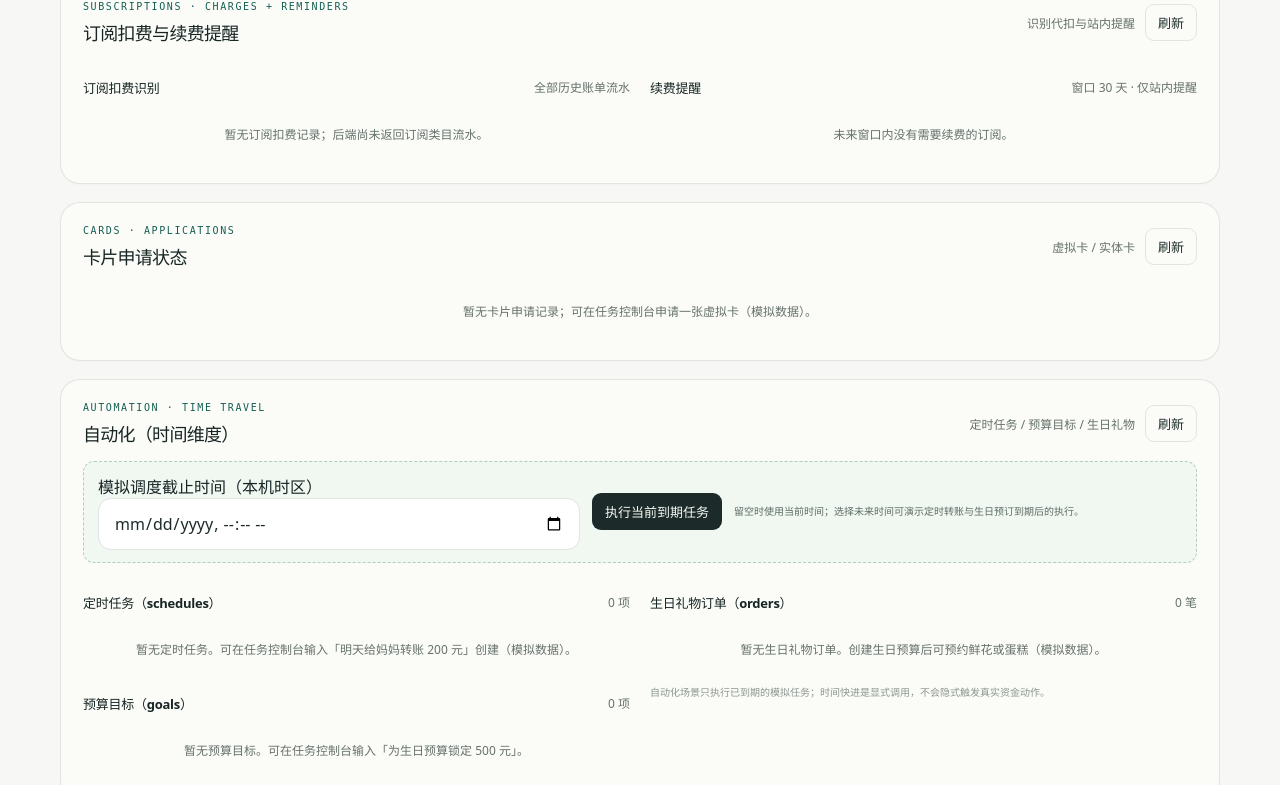
Test: business page interactions › surfaces pending re-authentication from run-due instead of claiming completion
The width and height of the screenshot is (1280, 785).
(page scrolled)
What coordinates should you click on to do the following:
click the button "执行当前到期任务"
I would click on:
 (657, 512)
Its box is [592,493,722,530].
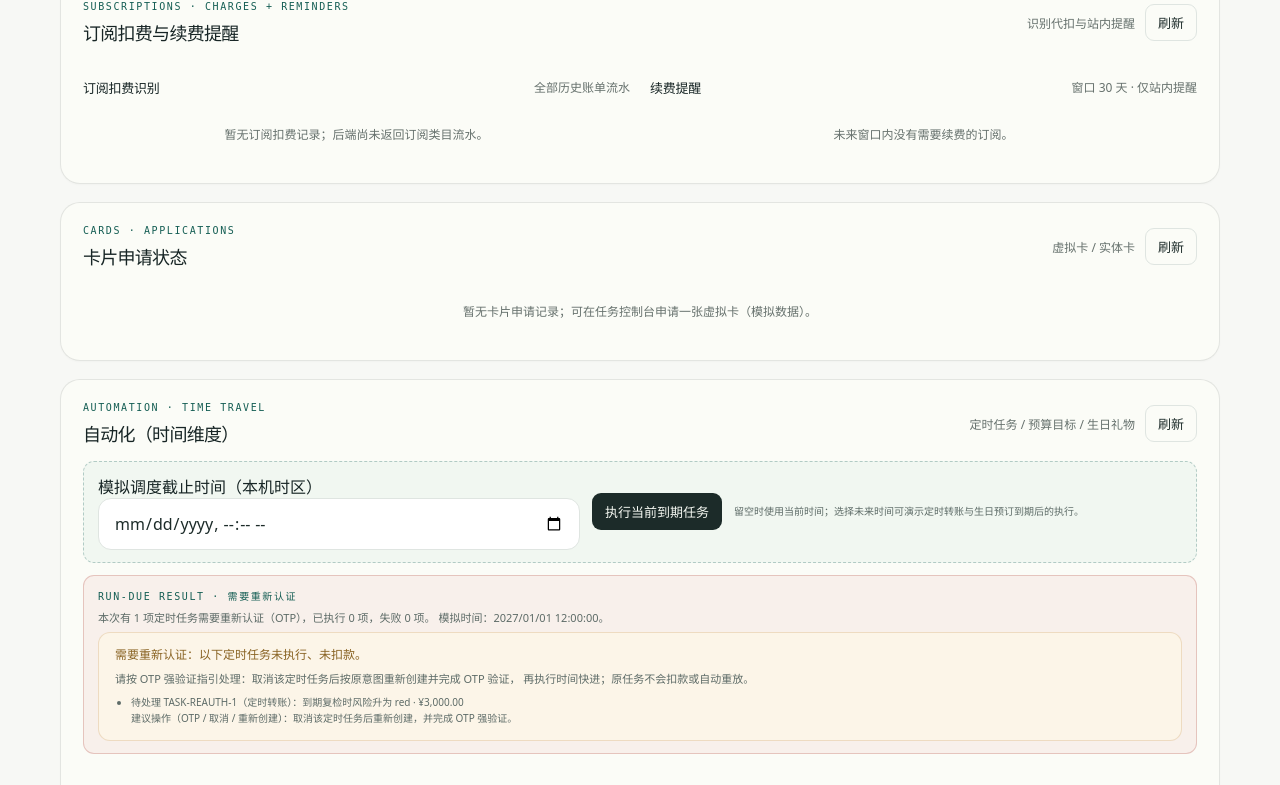
Check: the message with class "run-due-reauth" shows "未执行、未扣款", box [115,646,367,663]
Check: the message with class "run-due-reauth" shows "TASK-REAUTH-1", box [164,695,237,709]
Check: the message with class "run-due-reauth" shows "到期复检时风险升为 red", box [302,695,410,709]
